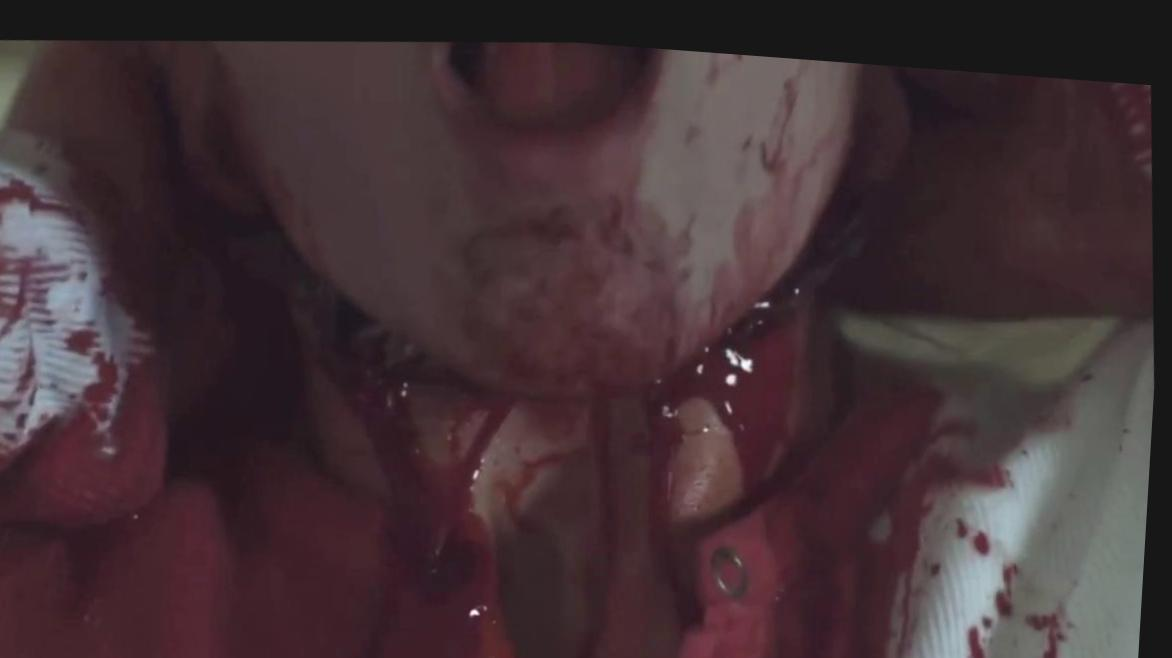Fire: (0, 33, 1156, 658)
